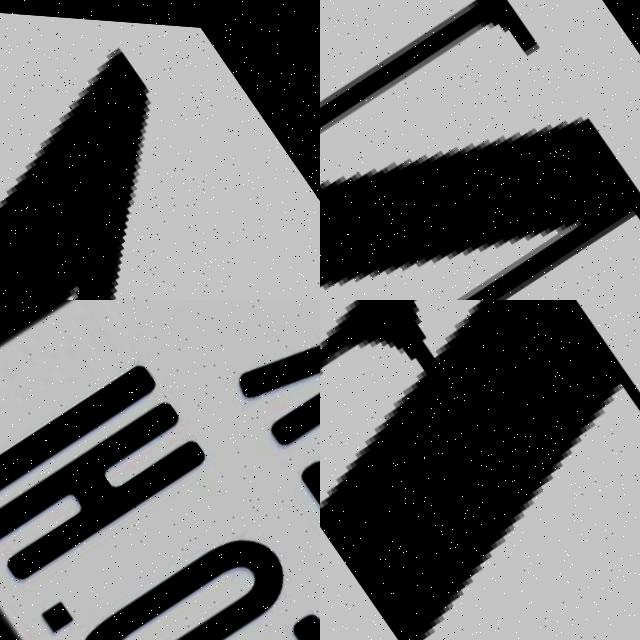0: (61, 503, 303, 640)
F: (320, 300, 640, 640)
H: (0, 381, 207, 594)
L: (0, 301, 157, 522)
N: (320, 0, 640, 300)
R: (230, 300, 320, 457)
